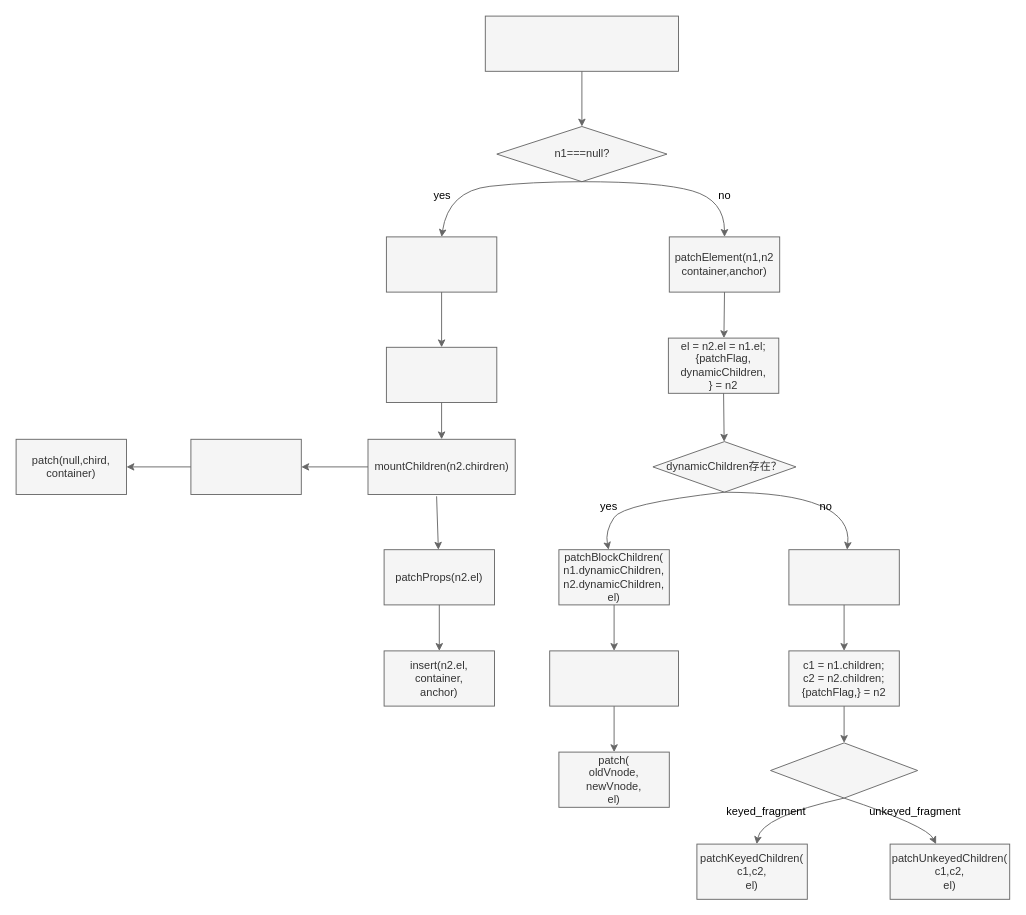
Image size: 1026x915. Some labels were removed from this diagram. Here are the shapes that lost their labels. From the top down, the centre of each, then its label:
At point (581, 43): "processElement(n1,n2, container,anchor)".
At point (441, 264): "mountElement( n2,container, anchor)".
At point (441, 374): "n2.el = createElement(n2)".
At point (245, 466): "遍历children".
At point (843, 577): "patchChildern( n1,n2,el)".
At point (613, 678): "遍历， oldVnode=n1.children[i]; newVnode=n2.children[i]".
At point (844, 770): "patchFlag".
